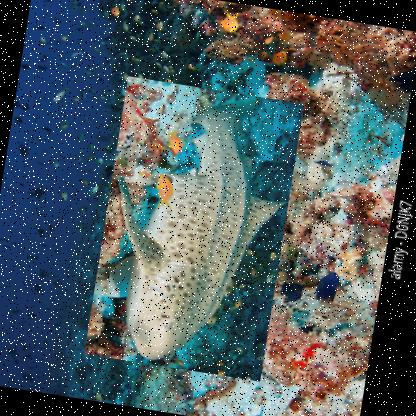zebra_shark: (84, 73, 305, 380)
